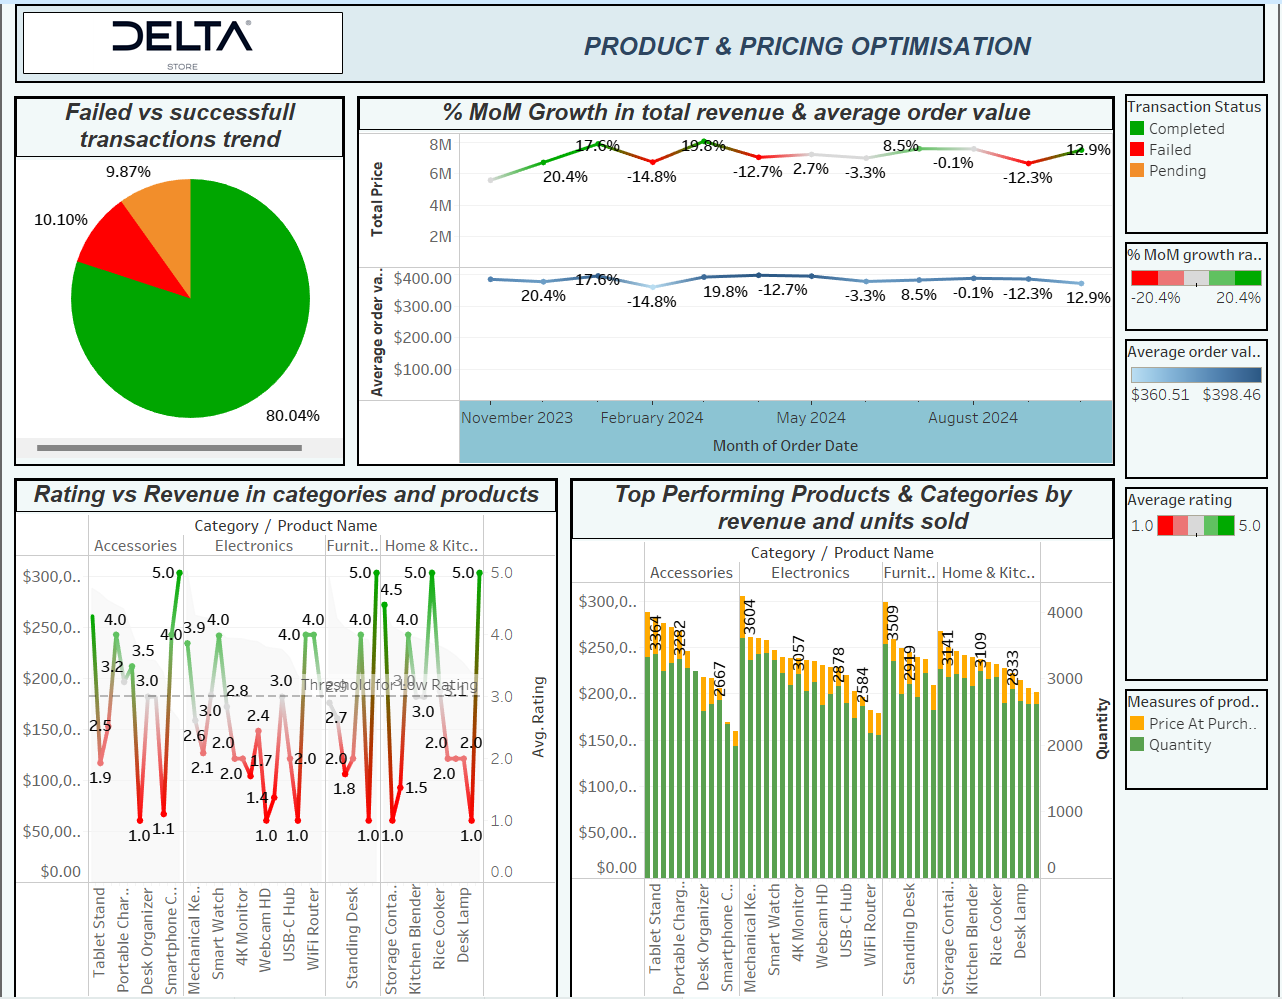

This screenshot's page, from the dashboard's own definition file:
{"tool":"tableau","page":{"name":"PRODUCT & PRICING OPTIMISATION","canvas":[1000,1000],"units":"permille","ordinal":2},"visuals":[{"type":"title","box":[6.2,7.8,987.5,90.8]},{"type":"image","param":"C:/Users/Iheb/Desktop/Cours/Projects/Delta_Store_data/delta_store_photo.jpg","box":[18,22.5,250,60.6]},{"type":"worksheet","title":"Failed vs successfull transactions trend","mark":"Pie","box":[6.2,98.6,268,373.1]},{"type":"worksheet","title":"% MoM Growth in total revenue & average order value","mark":"Automatic","rows":["total_price","Calculation_43065728079896577"],"cols":["order_date"],"box":[274.2,98.6,601.6,373.1]},{"type":"legend","title":"Failed vs successfull transactions trend","param":"[federated.0v9k3h11ha49oy16uwvx20vguj4d].[none:transaction_status:nk]","box":[875.8,98.6,118,144.5]},{"type":"legend","title":"% MoM Growth in total revenue & average order value","param":"[federated.0v9k3h11ha49oy16uwvx20vguj4d].[usr:Calculation_212513665426391041:qk]","box":[875.8,243.2,118,94.7]},{"type":"legend","title":"% MoM Growth in total revenue & average order value","param":"[federated.0v9k3h11ha49oy16uwvx20vguj4d].[usr:Calculation_43065728079896577:qk]","box":[875.8,337.9,118,144.5]},{"type":"worksheet","title":"Rating vs Revenue in categories and products","mark":"Automatic","rows":["price_at_purchase","rating"],"cols":["category","product_name"],"box":[6.2,471.7,434.8,520.5]},{"type":"worksheet","title":"Top Performing Products & Categories by revenue and units sold","mark":"Bar","rows":["price_at_purchase","quantity"],"cols":["category","product_name"],"box":[441,471.7,434.8,520.5]},{"type":"legend","title":"Rating vs Revenue in categories and products","param":"[federated.0v9k3h11ha49oy16uwvx20vguj4d].[avg:rating:qk]","box":[875.8,482.4,118,197.3]},{"type":"legend","title":"Top Performing Products & Categories by revenue and units sold","param":"[federated.0v9k3h11ha49oy16uwvx20vguj4d].[:Measure Names]","box":[875.8,679.7,118,106.4]}]}

Visuals, with their boxes on the dashboard's canvas, which has no fixed pixel size, in thousandths of its width and height (x1, y1, x2, y2). These are canvas units, not pixel positions in the 1282x999 screenshot, which may show the page scaled, cropped or inside an application window:
title: [6, 8, 994, 99]
image: [18, 22, 268, 83]
"Failed vs successfull transactions trend" worksheet (Pie marks): [6, 99, 274, 472]
"% MoM Growth in total revenue & average order value" worksheet: [274, 99, 876, 472]
"Failed vs successfull transactions trend" legend: [876, 99, 994, 243]
"% MoM Growth in total revenue & average order value" legend: [876, 243, 994, 338]
"% MoM Growth in total revenue & average order value" legend: [876, 338, 994, 482]
"Rating vs Revenue in categories and products" worksheet: [6, 472, 441, 992]
"Top Performing Products & Categories by revenue and units sold" worksheet (Bar marks): [441, 472, 876, 992]
"Rating vs Revenue in categories and products" legend: [876, 482, 994, 680]
"Top Performing Products & Categories by revenue and units sold" legend: [876, 680, 994, 786]
